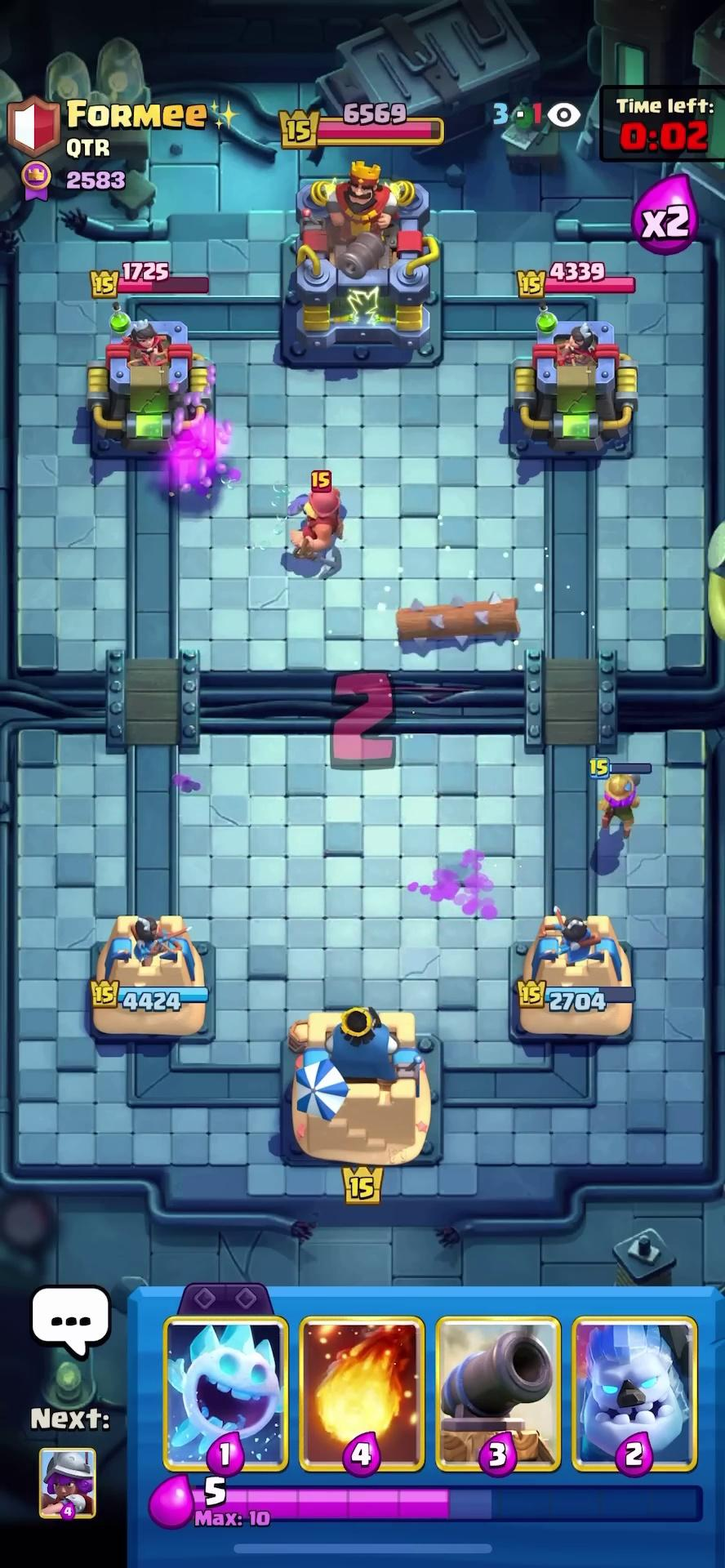log: (378, 600, 551, 649)
musketeer: (580, 749, 661, 827)
